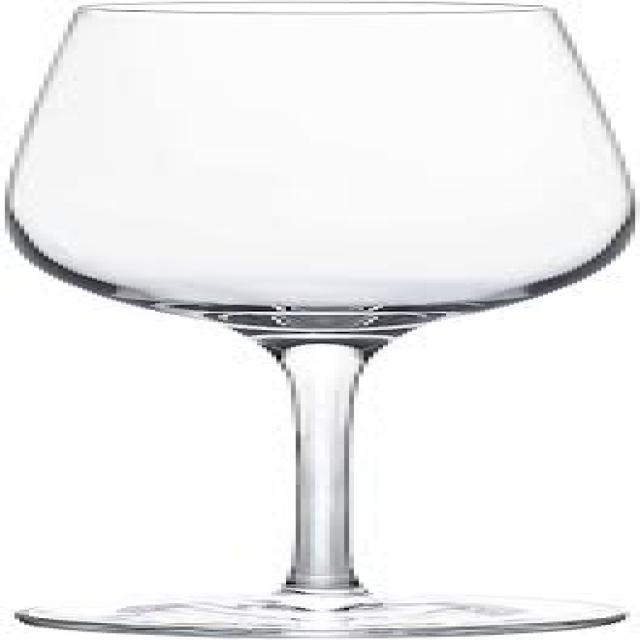glass: (0, 2, 635, 638)
